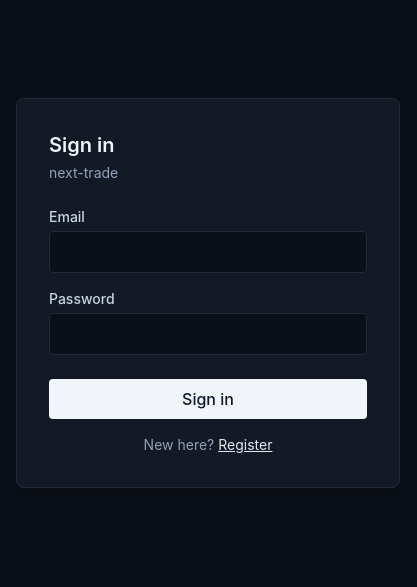
Test: login screen › links to the sign-up screen for a new user
Expected: the heading "Sign in" is shown, [49,133,114,157]
Click the link "Register".
click(245, 444)  # box [218,436,272,453]
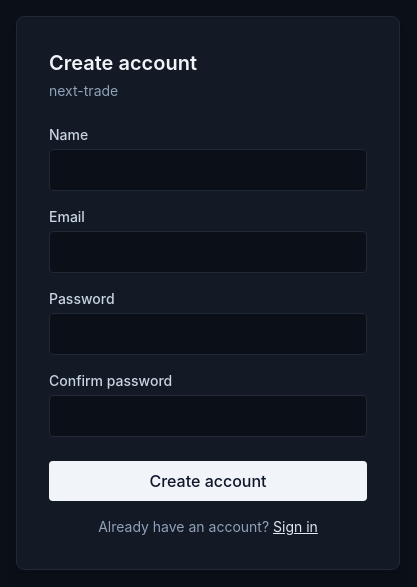
Now the heading "Create account" is shown, box [49,51,197,75]
